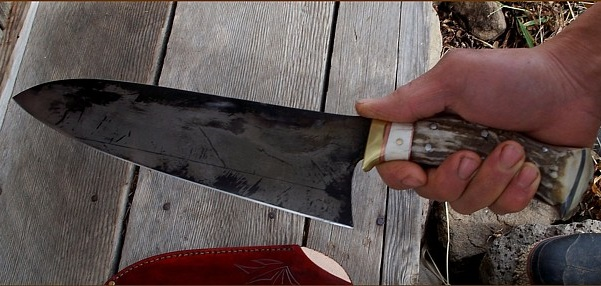knife: (1, 47, 460, 236)
